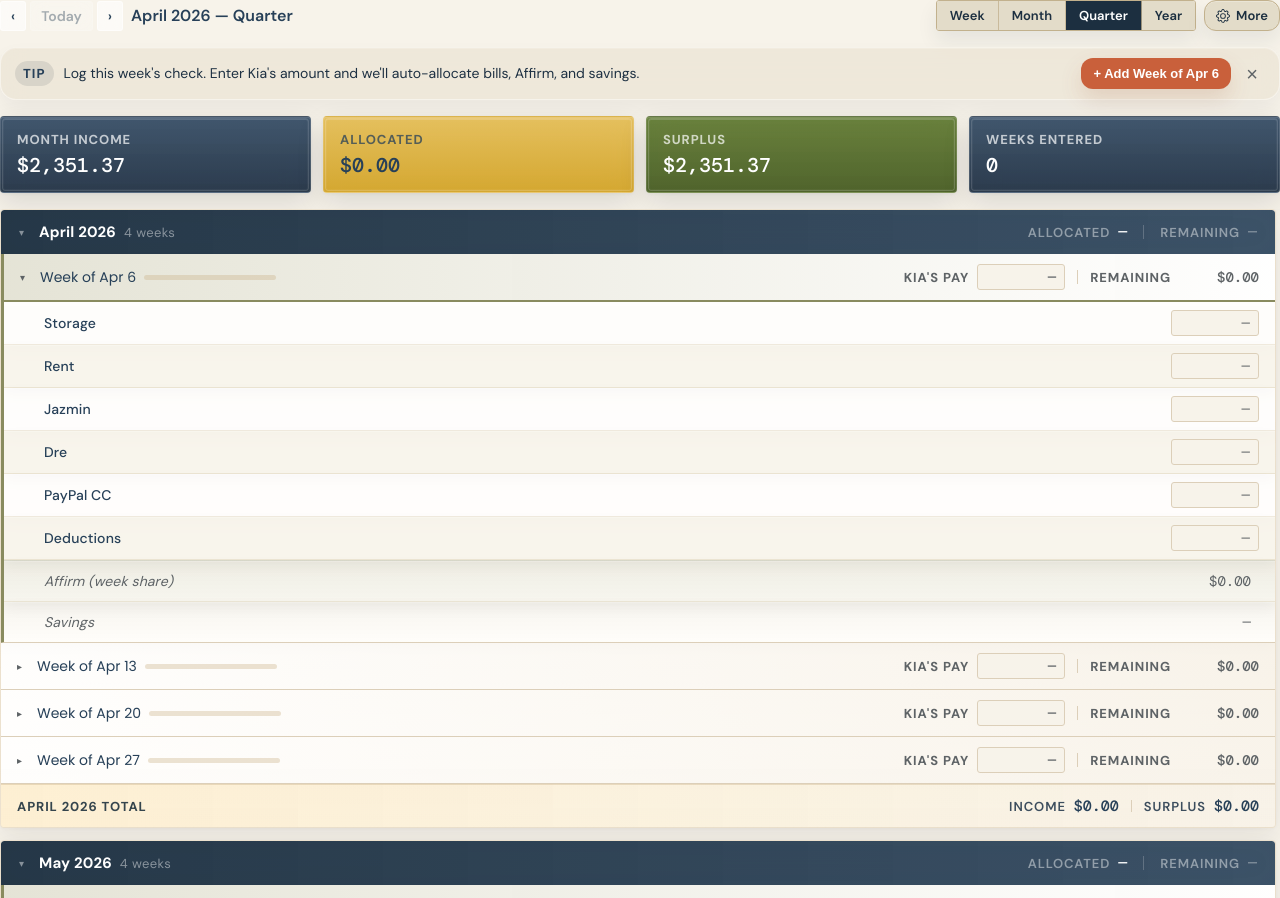
Test: PaycheckTab — navigation › navigates prev/next in quarterly view (getNavStep quarterly)
The width and height of the screenshot is (1280, 898).
Click the button named "Previous month" at (13, 16), box [0,0,26,30]
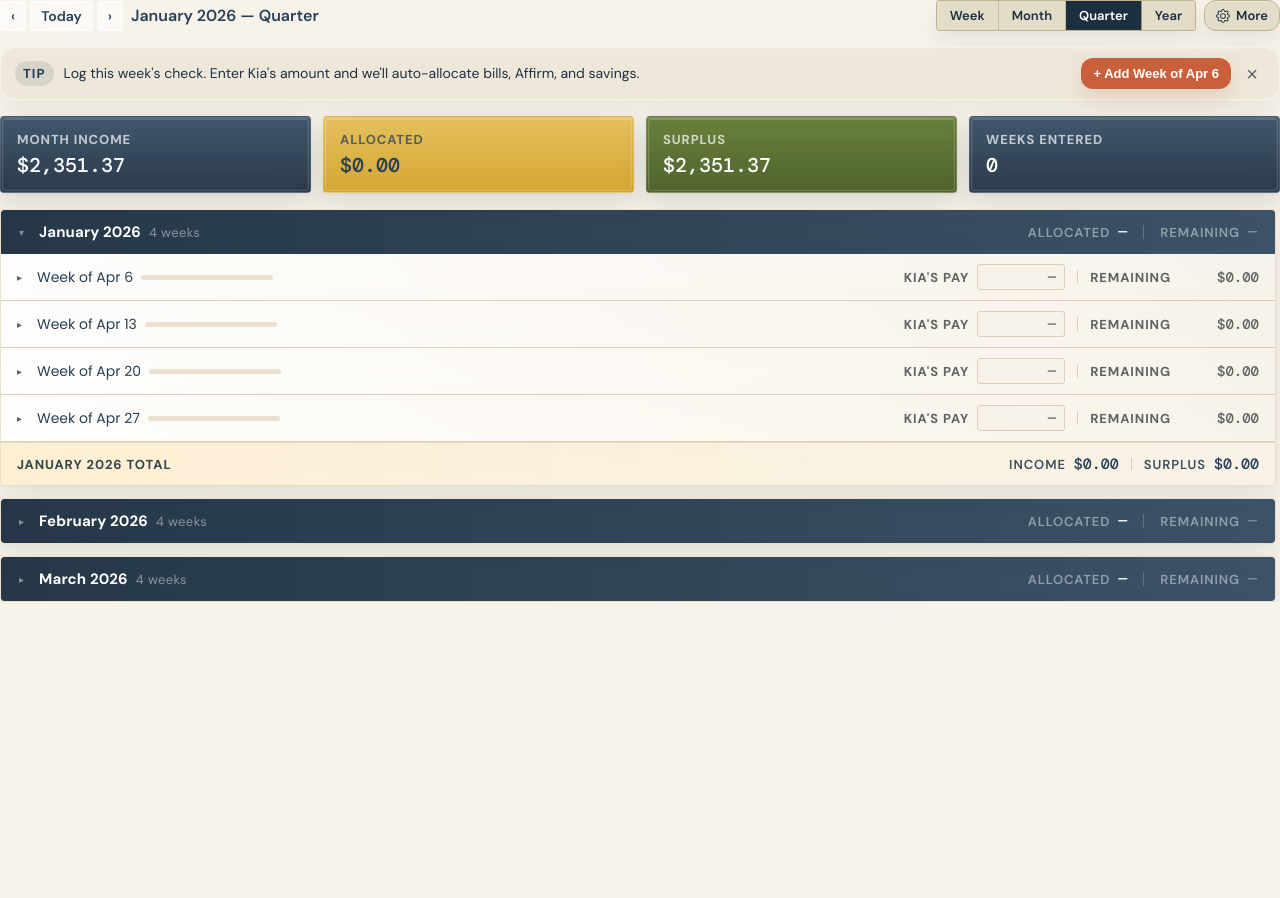
Expected: the heading "January 2026 — Quarter" is shown, [131,5,319,26]
Click the button named "Next month" at (110, 16), box [97,0,123,30]
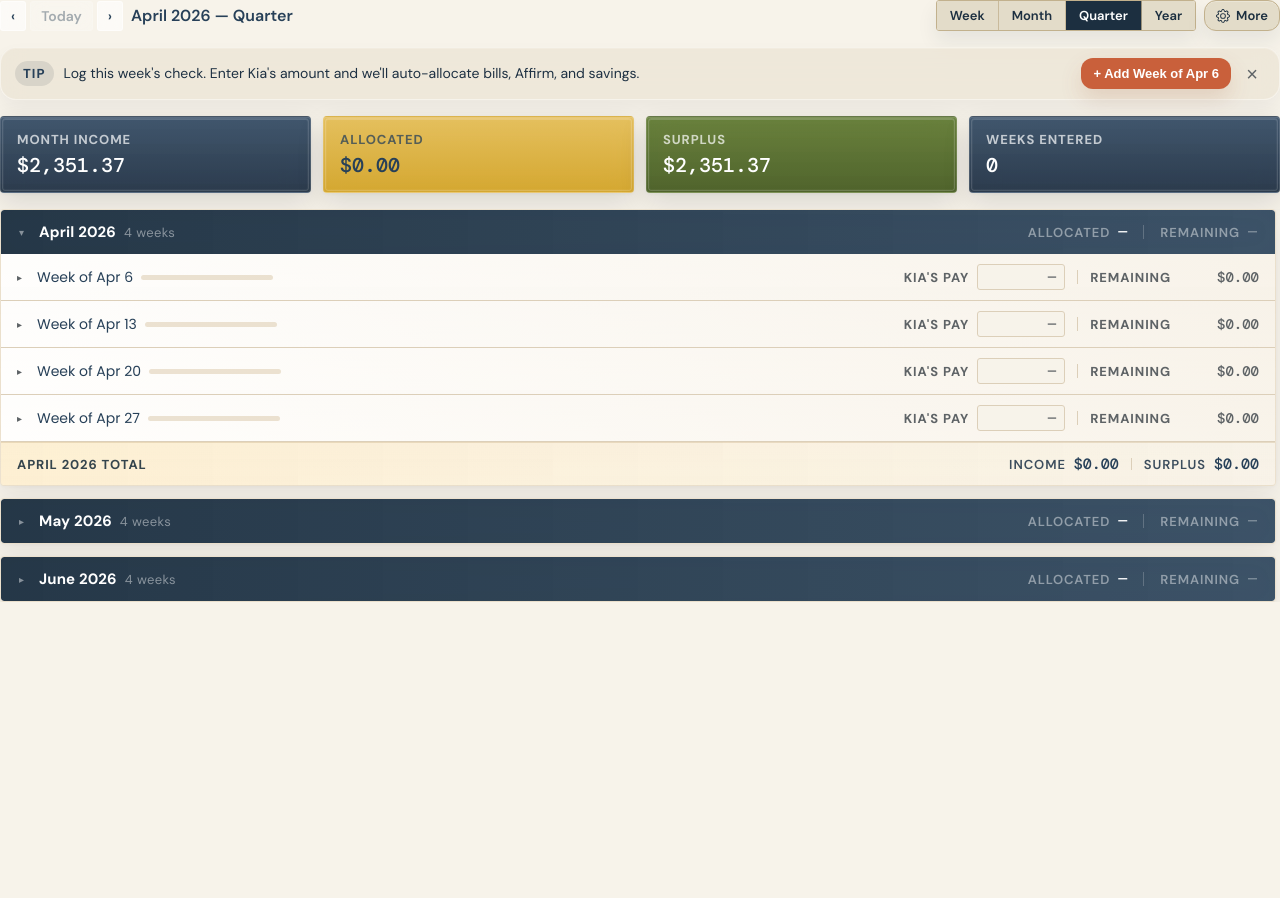
Expected: the heading "April 2026 — Quarter" is shown, [131,5,293,26]
